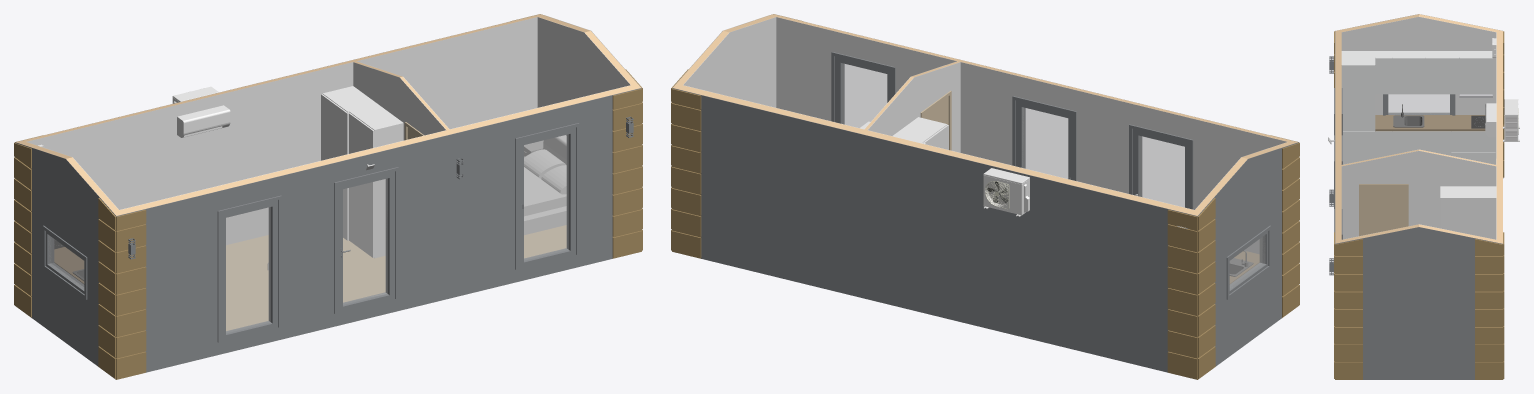
The picture shows the model from 3 angles, left to right: view 1: azimuth 30°, elevation 25°; view 2: azimuth 150°, elevation 25°; view 3: azimuth 270°, elevation 25°; orthographic projection. The views are drawn at different scales.
Parts seen in each view (by area): view 1: IfcWall/Part:2345357, IfcWall/Part:2345365, IfcBuildingElementProxy/Kampai Kvadratiniai - line based:Ru. (×3), IfcWall/Part:2345363, IfcWindow/Langai (Akrusta):1000x2100x120 (dešininis):2520826, IfcWindow/Langai (Akrusta):1000x2100x120 (kairinis):2523428, IfcDoor/Durys išorinės:1000x2100x120 (dešininės):2523263, IfcFurnishingElement/Ikea spinta:1500 x 550 x 2100mm:2426575, IfcSlab/Part:3131526, IfcWall/Part:2345359, IfcBuildingElementProxy/Kampai Kvadratiniai - line based:Rud, IfcFurnishingElement/Cama - 3D - Genérico - Modelo Helsinki: (+8 smaller); view 2: IfcWall/Part:2345366, IfcWall/Part:2345356, IfcBuildingElementProxy/Kampai Kvadratiniai - line based:Ru. (×3), IfcWall/Part:2345363, IfcWall/Part:2345359, IfcBuildingElementProxy/Kampai Kvadratiniai - line based:Ru, IfcWindow/Langai (Akrusta):1000x2100x120 (dešininis):2520826, IfcDoor/Durys išorinės:1000x2100x120 (dešininės):2523263, IfcWindow/Langai (Akrusta):1000x2100x120 (kairinis):2523428, IfcWall/Part:2391472, IfcWall/Part:2345367, IfcWindow/Langai (Akrusta):1200 x 600 x 120:2520770 (+6 smaller); view 3: IfcWall/Part:2345360, IfcBuildingElementProxy/Kampai Kvadratiniai - line based:Ru. (×3), IfcWall/Part:2391471, IfcWall/Part:2345362, IfcFurnishingElement/Cabinet_-_Storage:1000 x 500 x 2100mm:3, IfcDoor/Durys vidinės:800x2100 x 120 (kairinės):2525562, IfcFurnishingElement/Indaplovės/šaldytuvo durelės:1200mm:313, IfcWindow/Langai (Akrusta):1200 x 600 x 120:2520770, IfcWall/Part:2345367, IfcWall/Part:2345358, IfcFurnishingElement/Countertop4:Countertop:3132838, IfcFurnishingElement/Spintelių durelės (neskaičiuoti):600mm: (+25 smaller).
Part boxes in pixels (<box>): IfcWall/Part:2345357: <box>116,88,641,372</box>; IfcWall/Part:2345365: <box>26,17,537,244</box>; IfcBuildingElementProxy/Kampai Kvadratiniai - line based:Ru. (×3): <box>14,88,642,379</box>; IfcWall/Part:2345363: <box>15,142,116,366</box>; IfcWindow/Langai (Akrusta):1000x2100x120 (dešininis):2520826: <box>217,195,281,342</box>; IfcWindow/Langai (Akrusta):1000x2100x120 (kairinis):2523428: <box>515,123,579,269</box>; IfcDoor/Durys išorinės:1000x2100x120 (dešininės):2523263: <box>334,167,398,313</box>; IfcFurnishingElement/Ikea spinta:1500 x 550 x 2100mm:2426575: <box>321,86,403,257</box>; IfcSlab/Part:3131526: <box>226,225,566,330</box>; IfcWall/Part:2345359: <box>537,17,630,135</box>; IfcBuildingElementProxy/Kampai Kvadratiniai - line based:Rud: <box>116,209,146,379</box>; IfcFurnishingElement/Cama - 3D - Genérico - Modelo Helsinki:: <box>524,135,566,234</box>; IfcWall/Part:2345366: <box>672,88,1197,372</box>; IfcWall/Part:2345356: <box>776,17,1287,209</box>; IfcBuildingElementProxy/Kampai Kvadratiniai - line based:Ru. (×3): <box>671,88,1299,379</box>; IfcWall/Part:2345363: <box>1198,142,1298,366</box>; IfcWall/Part:2345359: <box>683,17,776,107</box>; IfcBuildingElementProxy/Kampai Kvadratiniai - line based:Ru: <box>1167,209,1197,379</box>; IfcWindow/Langai (Akrusta):1000x2100x120 (dešininis):2520826: <box>1129,124,1193,209</box>; IfcDoor/Durys išorinės:1000x2100x120 (dešininės):2523263: <box>1012,96,1076,180</box>; IfcWindow/Langai (Akrusta):1000x2100x120 (kairinis):2523428: <box>831,52,895,127</box>; IfcWall/Part:2391472: <box>868,62,960,152</box>; IfcWall/Part:2345367: <box>673,84,1200,215</box>; IfcWindow/Langai (Akrusta):1200 x 600 x 120:2520770: <box>1226,225,1270,299</box>; IfcWall/Part:2345360: <box>1335,227,1502,379</box>; IfcBuildingElementProxy/Kampai Kvadratiniai - line based:Ru. (×3): <box>1335,232,1504,379</box>; IfcWall/Part:2391471: <box>1341,151,1496,239</box>; IfcWall/Part:2345362: <box>1341,16,1496,158</box>; IfcFurnishingElement/Cabinet_-_Storage:1000 x 500 x 2100mm:3: <box>1440,186,1496,239</box>; IfcDoor/Durys vidinės:800x2100 x 120 (kairinės):2525562: <box>1359,184,1408,236</box>; IfcFurnishingElement/Indaplovės/šaldytuvo durelės:1200mm:313: <box>1342,65,1374,126</box>; IfcWindow/Langai (Akrusta):1200 x 600 x 120:2520770: <box>1383,94,1455,115</box>; IfcWall/Part:2345367: <box>1496,30,1502,243</box>; IfcWall/Part:2345358: <box>1335,32,1341,243</box>; IfcFurnishingElement/Countertop4:Countertop:3132838: <box>1375,115,1485,131</box>; IfcFurnishingElement/Spintelių durelės (neskaičiuoti):600mm:: <box>1392,57,1425,94</box>.
Size of the model in its own units: 904 by 301 by 342.
